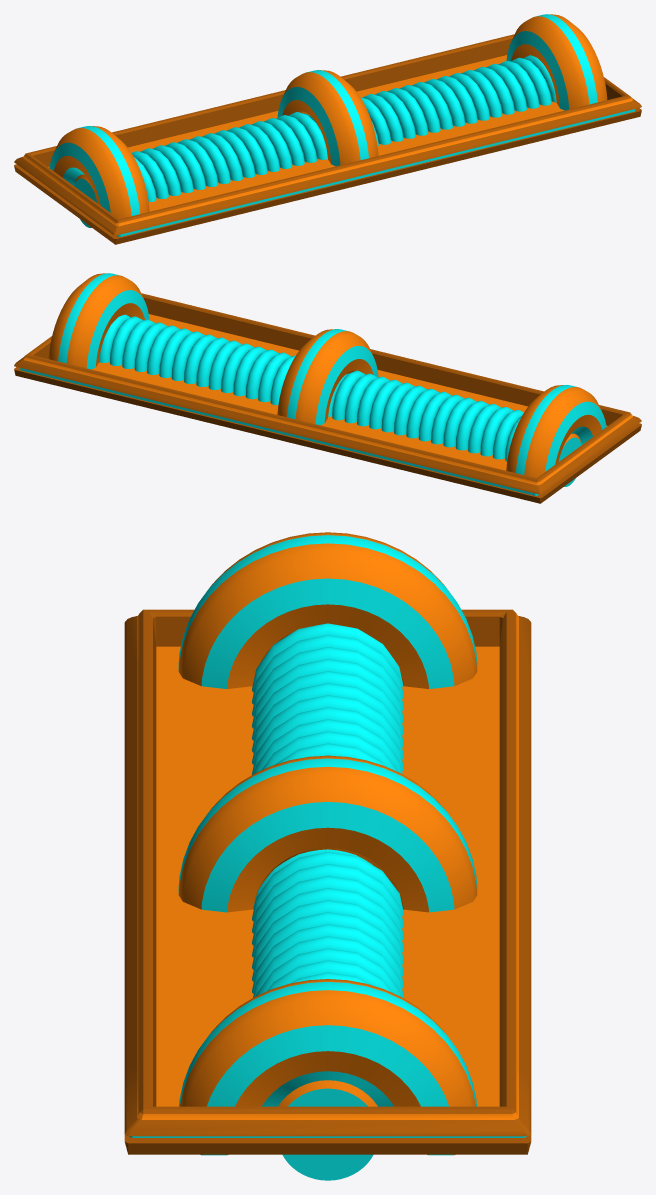
File: Zap Trap.fbx
3 views of the same model, one above another, from view 1: azimuth 30°, elevation 25°; view 2: azimuth 150°, elevation 25°; view 3: azimuth 270°, elevation 25° (orthographic). The views are drawn at different scales.
Visible parts, largest first — view 1: Zap Trap; view 2: Zap Trap; view 3: Zap Trap.
Part boxes in pixels (x1,y1,x2,y2): Zap Trap: [14, 14, 641, 244]; Zap Trap: [14, 273, 641, 503]; Zap Trap: [124, 532, 531, 1180].
Bounding box in the file's own units: 600 × 98.71 × 200.
